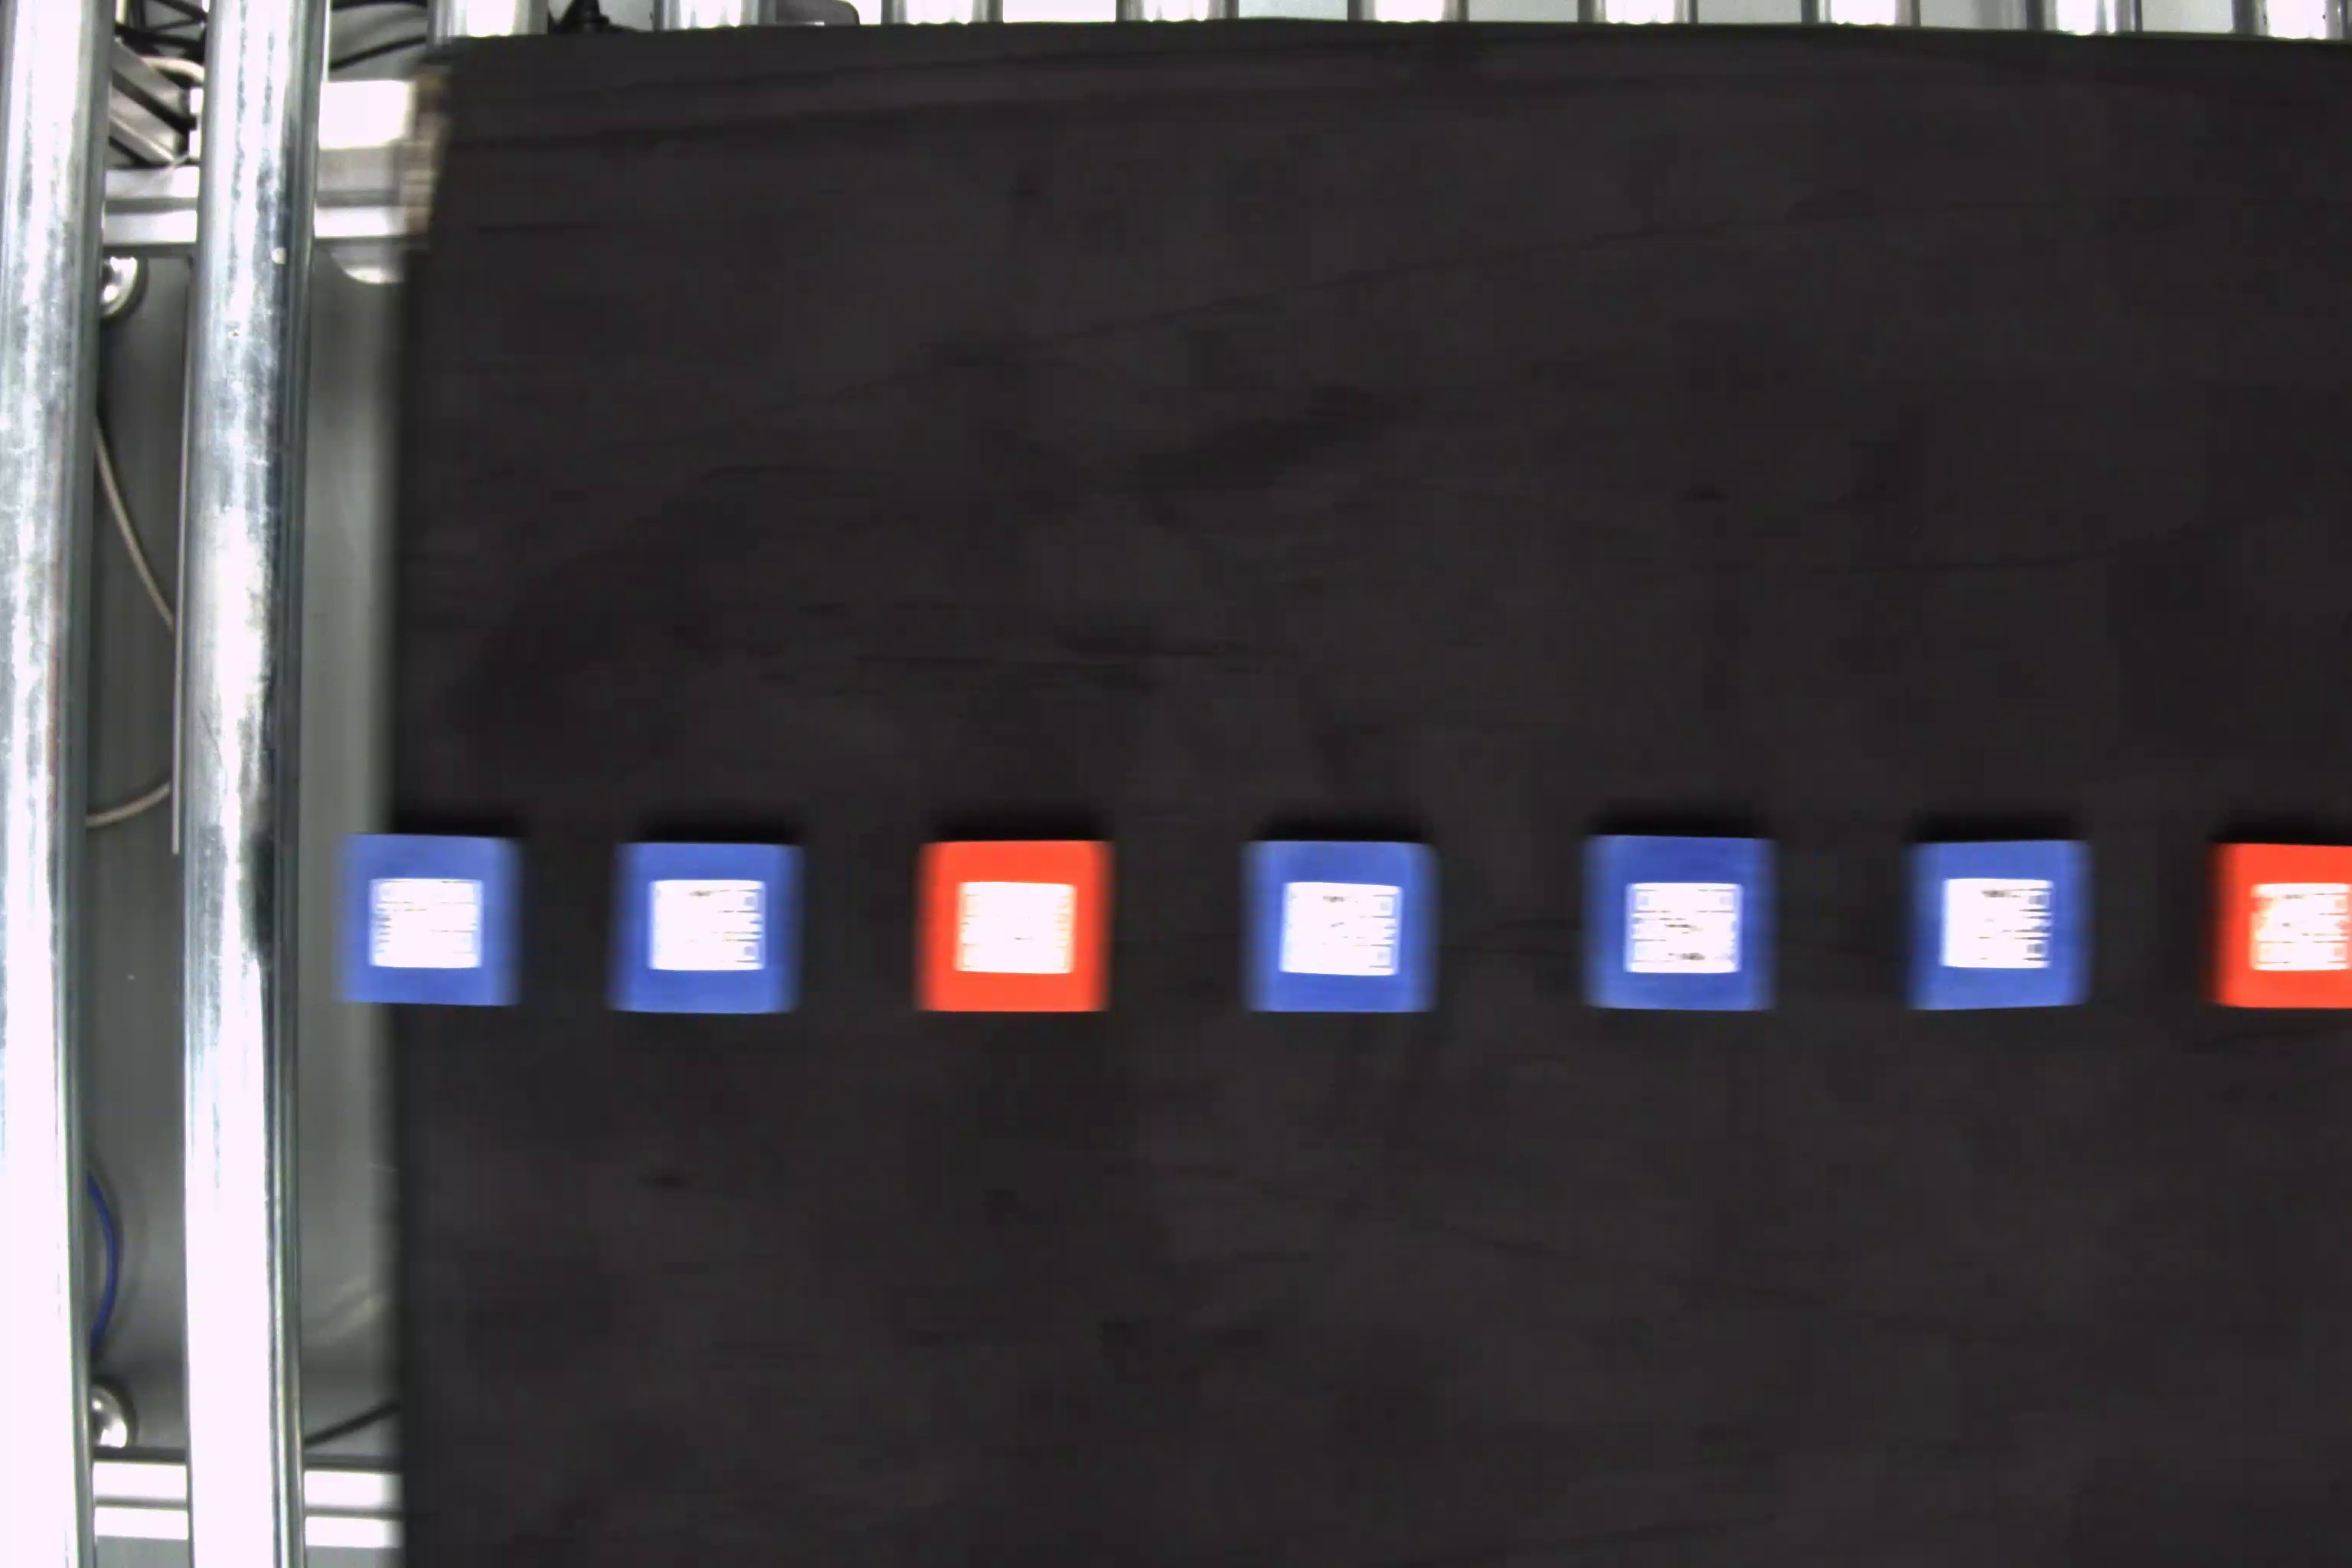wood: (915, 835, 1118, 1017), (1239, 836, 1444, 1017), (336, 826, 523, 1013), (607, 842, 807, 1015), (1580, 835, 1774, 1011), (1909, 843, 2091, 1013), (2205, 840, 2352, 1015)
